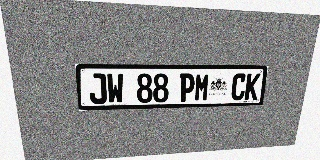8: (137, 73, 153, 103), (153, 73, 169, 103)
C: (230, 73, 247, 101)
J: (88, 73, 107, 104)
K: (244, 73, 261, 100)
M: (194, 73, 210, 101)
P: (179, 73, 195, 102)
W: (106, 73, 124, 104)
